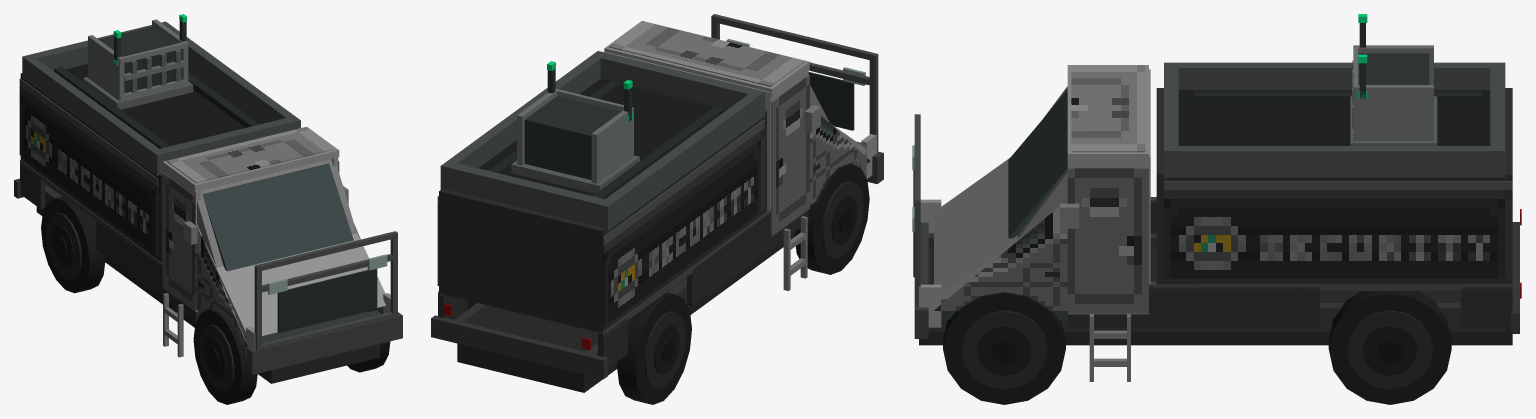
Rendered from CMU3DRMCPropVehicleLoaderTruckBlackFilled.glb.
3 views of the same model, side by side, from view 1: azimuth 30°, elevation 25°; view 2: azimuth 150°, elevation 25°; view 3: azimuth 270°, elevation 25° (orthographic). The views are drawn at different scales.
Visible parts, largest first — view 1: original security panel -1, sloped windshield, raked hood, recessed equipment deck, original cab roof hatch, front guard grille, raised deck edge -1, original cab door -1, front bumper, tire 2 -1, raised deck edge 1, wheel gap skirt -1 1 (+28 smaller); view 2: security cargo enclosure, original security panel -1, central ladder chassis, original cab roof hatch, raised deck edge -1, original cab door -1, roof device body, deck end frame 1, recessed equipment deck, rear bumper, deck end frame 0, tire 2 -1 (+27 smaller); view 3: original security panel 1, original cab door 1, raised deck edge 1, recessed equipment deck, wheel gap skirt 1 1, raked hood, original cab roof hatch, raised deck edge -1, tire 2 1, original sloped hood side 1, security cargo enclosure, central ladder chassis (+23 smaller).
Boxes of the visible parts, left/top/right/bottom form: original security panel -1: left=19, top=78, right=158, bottom=255; sloped windshield: left=202, top=163, right=353, bottom=271; raked hood: left=204, top=231, right=385, bottom=336; recessed equipment deck: left=66, top=64, right=267, bottom=145; original cab roof hatch: left=167, top=127, right=334, bottom=183; front guard grille: left=277, top=269, right=377, bottom=332; raised deck edge -1: left=22, top=57, right=165, bottom=175; original cab door -1: left=162, top=173, right=195, bottom=311; front bumper: left=246, top=312, right=402, bottom=374; tire 2 -1: left=41, top=196, right=105, bottom=293; raised deck edge 1: left=167, top=26, right=300, bottom=128; wheel gap skirt -1 1: left=96, top=218, right=200, bottom=322; security cargo enclosure: left=439, top=111, right=766, bottom=332; original security panel -1: left=603, top=119, right=764, bottom=326; central ladder chassis: left=457, top=232, right=794, bottom=392; original cab roof hatch: left=609, top=21, right=804, bottom=86; raised deck edge -1: left=598, top=92, right=764, bottom=230; original cab door -1: left=771, top=75, right=809, bottom=235; roof device body: left=524, top=96, right=620, bottom=179; deck end frame 1: left=440, top=161, right=614, bottom=228; recessed equipment deck: left=479, top=79, right=726, bottom=195; rear bumper: left=431, top=315, right=607, bottom=379; deck end frame 0: left=591, top=51, right=764, bottom=109; tire 2 -1: left=617, top=292, right=691, bottom=404; original security panel 1: left=1164, top=181, right=1512, bottom=278; original cab door 1: left=1067, top=168, right=1148, bottom=313; raised deck edge 1: left=1164, top=146, right=1505, bottom=177; recessed equipment deck: left=1178, top=90, right=1490, bottom=145; wheel gap skirt 1 1: left=1067, top=287, right=1319, bottom=327; raked hood: left=934, top=157, right=1031, bottom=299; original cab roof hatch: left=1071, top=65, right=1145, bottom=152; raised deck edge -1: left=1178, top=62, right=1490, bottom=89; tire 2 1: left=1328, top=291, right=1451, bottom=404; original sloped hood side 1: left=934, top=200, right=1067, bottom=310; security cargo enclosure: left=1156, top=88, right=1512, bottom=284; central ladder chassis: left=919, top=246, right=1512, bottom=345.
Size of the model in its own units: 0.972 by 1.5 by 2.57.
38 materials, 4 textured.
